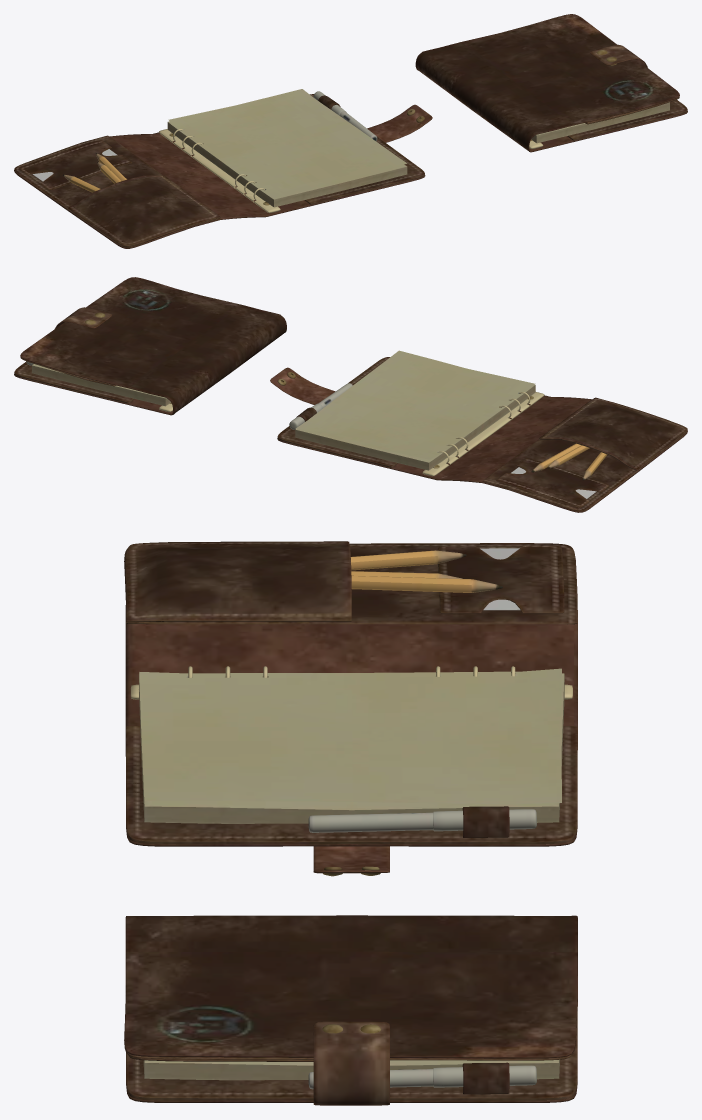
The model's file is binder_notebook_1k-slim.glb.
The picture shows the model from 3 angles, top to bottom: view 1: azimuth 30°, elevation 25°; view 2: azimuth 150°, elevation 25°; view 3: azimuth 270°, elevation 25°; orthographic projection. The views are drawn at different scales.
Visible parts, largest first — view 1: binder_notebook, binder_notebook_closed; view 2: binder_notebook, binder_notebook_closed; view 3: binder_notebook, binder_notebook_closed.
Part boxes in pixels (<box>): binder_notebook: <box>14,89,432,248</box>; binder_notebook_closed: <box>415,14,687,152</box>; binder_notebook: <box>270,350,687,512</box>; binder_notebook_closed: <box>14,277,286,415</box>; binder_notebook: <box>124,541,577,876</box>; binder_notebook_closed: <box>124,915,577,1105</box>.
Size of the model in its own units: 0.584 by 0.0253 by 0.2.
Materials: 1 (1 with a texture image).
